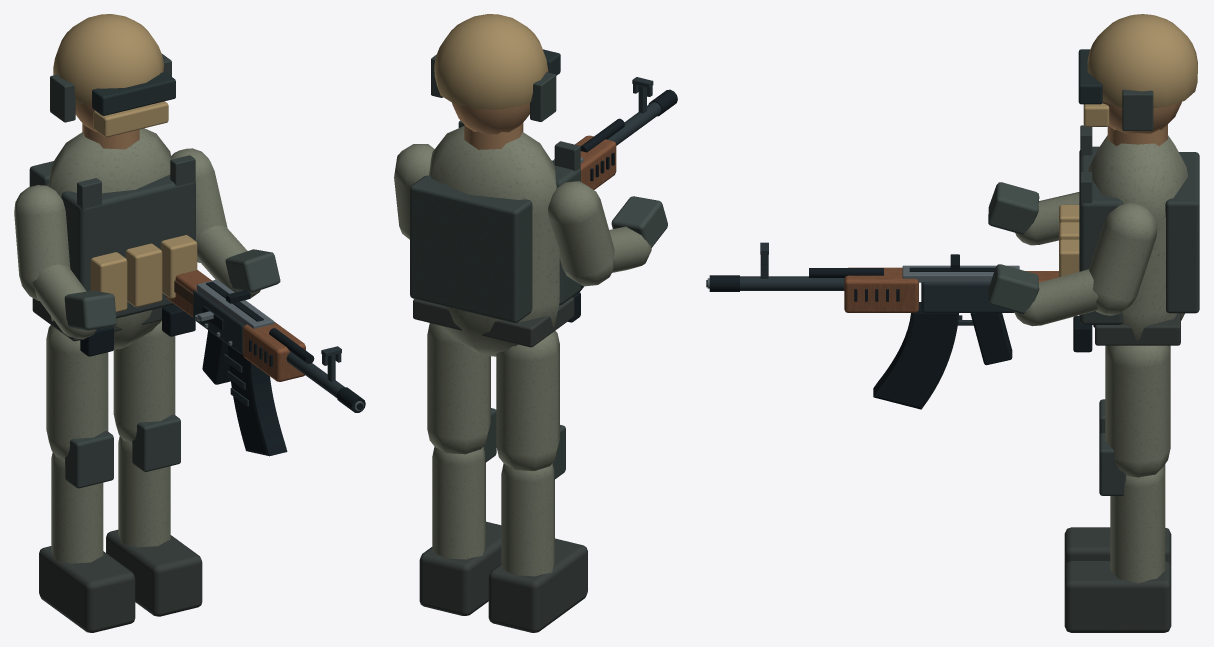
The model's file is soldier.glb.
The picture shows the model from 3 angles, left to right: view 1: azimuth 30°, elevation 25°; view 2: azimuth 150°, elevation 25°; view 3: azimuth 270°, elevation 25°; orthographic projection. The views are drawn at different scales.
Size of the model in its own units: 0.7018 by 1.89 by 1.44.
12 materials, 4 textured.
